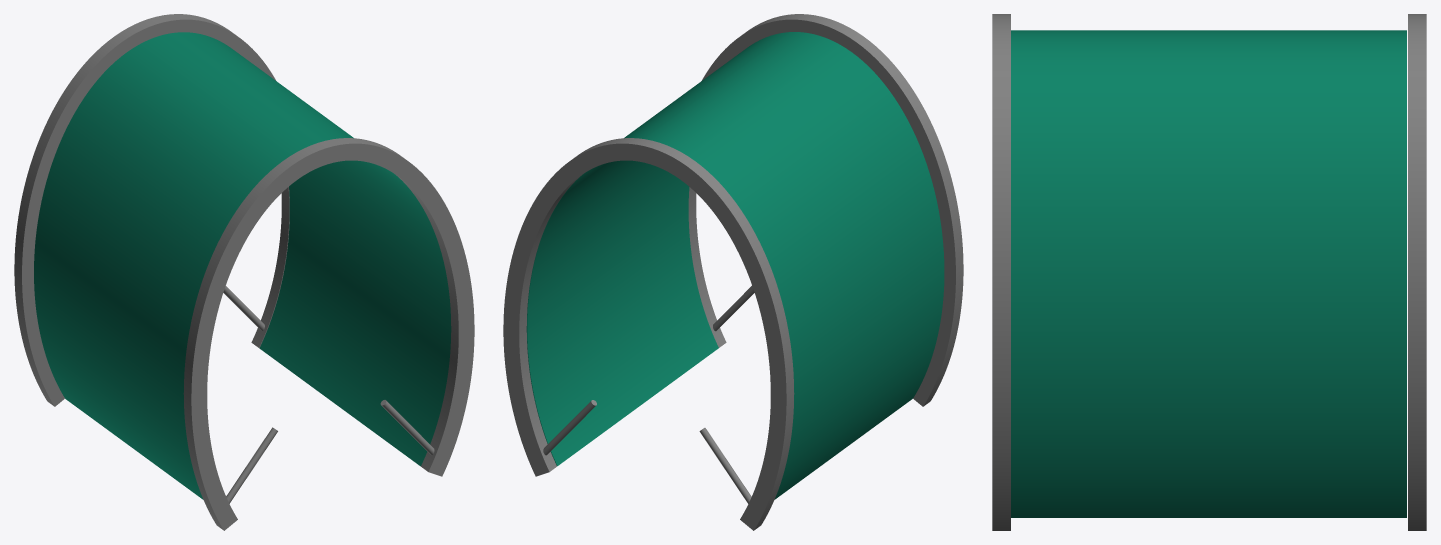
File: Canopy.fbx
3 views of the same model, side by side, from view 1: azimuth 30°, elevation 25°; view 2: azimuth 150°, elevation 25°; view 3: azimuth 270°, elevation 25° (orthographic). The views are drawn at different scales.
Parts seen in each view (by area): view 1: Canopy; view 2: Canopy; view 3: Canopy.
Part boxes in pixels (box(x1,y1,x2,y2)): Canopy: box(14, 14, 474, 530); Canopy: box(503, 14, 963, 530); Canopy: box(992, 14, 1426, 530).
Size of the model in its own units: 8.61 by 10.41 by 9.32.
